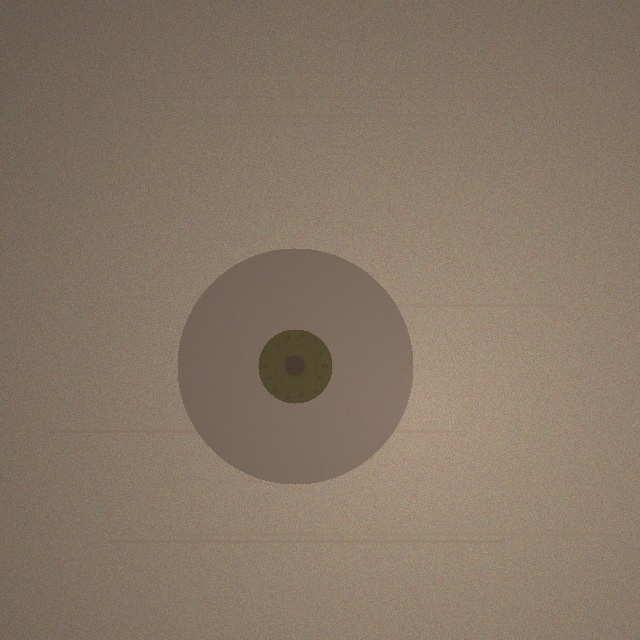cold_weld: (177, 248, 413, 484)
